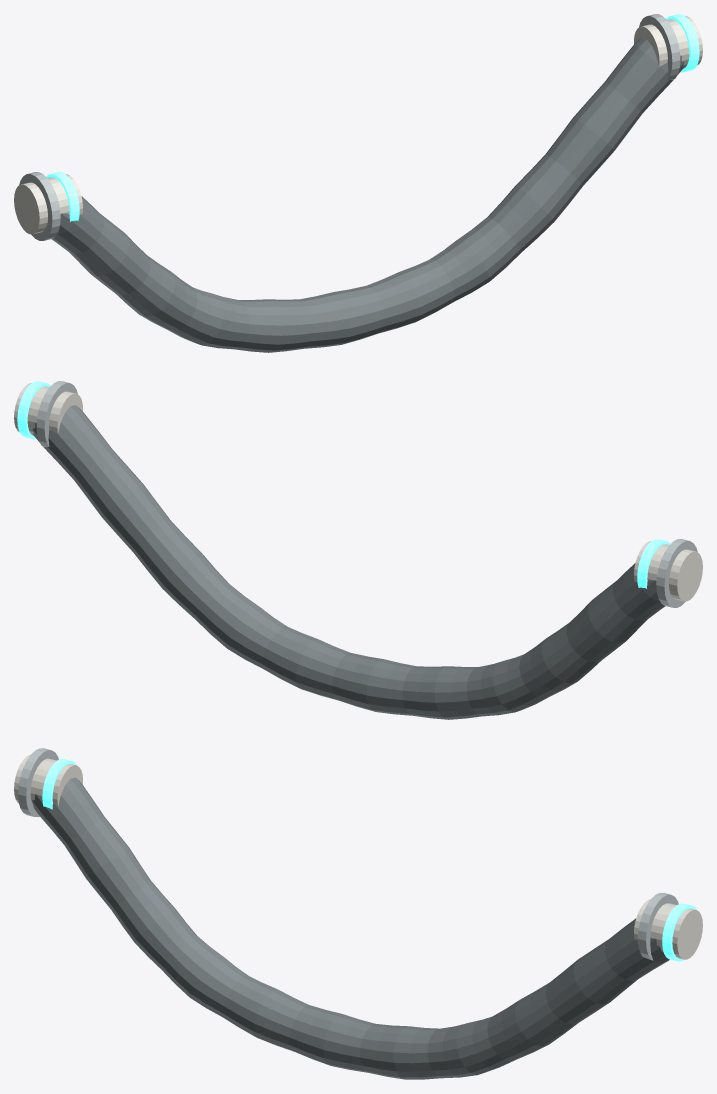
Rendered from s7-i03-hose-natural-sag.glb.
3 renders of one model, top to bottom at view 1: azimuth 30°, elevation 25°; view 2: azimuth 150°, elevation 25°; view 3: azimuth 330°, elevation 25°, orthographic.
Parts seen in each view (by area): view 1: 000_actual_curved_hose_swept_3d, 001_end_0_sealing_socket, 004_end_1_sealing_socket, 003_end_0_locking_collar, 006_end_1_locking_collar, 005_end_1_cyan_snap_seal, 002_end_0_cyan_snap_seal; view 2: 000_actual_curved_hose_swept_3d, 001_end_0_sealing_socket, 004_end_1_sealing_socket, 003_end_0_locking_collar, 006_end_1_locking_collar, 005_end_1_cyan_snap_seal, 002_end_0_cyan_snap_seal; view 3: 000_actual_curved_hose_swept_3d, 004_end_1_sealing_socket, 001_end_0_sealing_socket, 003_end_0_locking_collar, 006_end_1_locking_collar, 005_end_1_cyan_snap_seal, 002_end_0_cyan_snap_seal.
Part boxes in pixels (bbox=[...]): 000_actual_curved_hose_swept_3d: bbox=[51, 38, 684, 352]; 001_end_0_sealing_socket: bbox=[14, 174, 82, 234]; 004_end_1_sealing_socket: bbox=[634, 16, 702, 68]; 003_end_0_locking_collar: bbox=[19, 172, 60, 240]; 006_end_1_locking_collar: bbox=[639, 14, 680, 80]; 005_end_1_cyan_snap_seal: bbox=[666, 14, 699, 72]; 002_end_0_cyan_snap_seal: bbox=[46, 172, 79, 221]; 000_actual_curved_hose_swept_3d: bbox=[32, 405, 665, 719]; 001_end_0_sealing_socket: bbox=[634, 541, 702, 601]; 004_end_1_sealing_socket: bbox=[14, 383, 82, 435]; 003_end_0_locking_collar: bbox=[656, 539, 697, 607]; 006_end_1_locking_collar: bbox=[36, 381, 77, 447]; 005_end_1_cyan_snap_seal: bbox=[17, 381, 50, 439]; 002_end_0_cyan_snap_seal: bbox=[637, 539, 670, 588]; 000_actual_curved_hose_swept_3d: bbox=[32, 777, 669, 1079]; 004_end_1_sealing_socket: bbox=[634, 899, 702, 959]; 001_end_0_sealing_socket: bbox=[14, 754, 82, 806]; 003_end_0_locking_collar: bbox=[18, 748, 58, 817]; 006_end_1_locking_collar: bbox=[638, 892, 678, 960]; 005_end_1_cyan_snap_seal: bbox=[662, 903, 696, 961]; 002_end_0_cyan_snap_seal: bbox=[42, 759, 76, 809].
Bounding box in the file's own units: 1.04 × 0.3693 × 0.0935.
